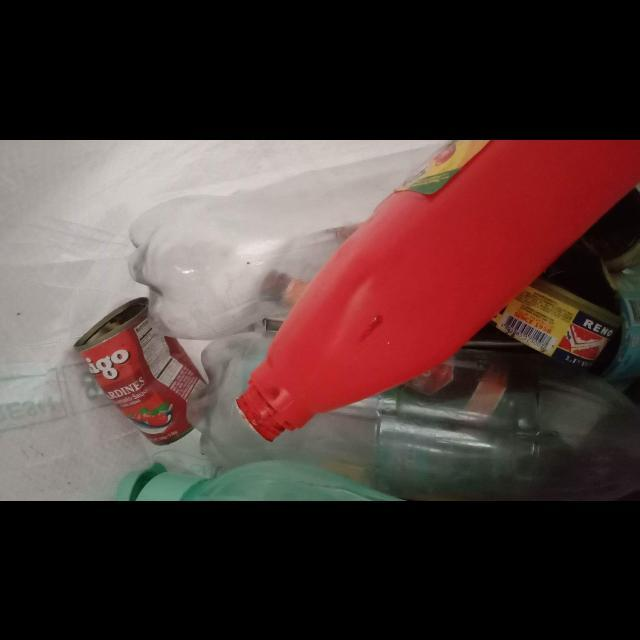metal: (73, 296, 208, 446), (492, 280, 622, 369)
plastic: (236, 139, 640, 442), (190, 330, 640, 501), (127, 142, 447, 341)
